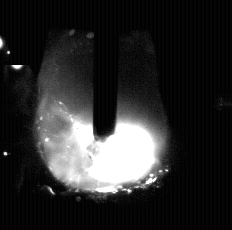arame: (94, 0, 118, 143)
poca: (35, 0, 170, 230)
